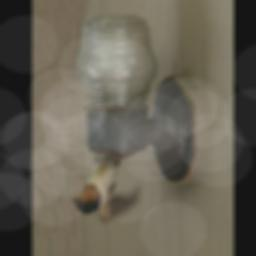Swallow: (71, 153, 142, 225)
